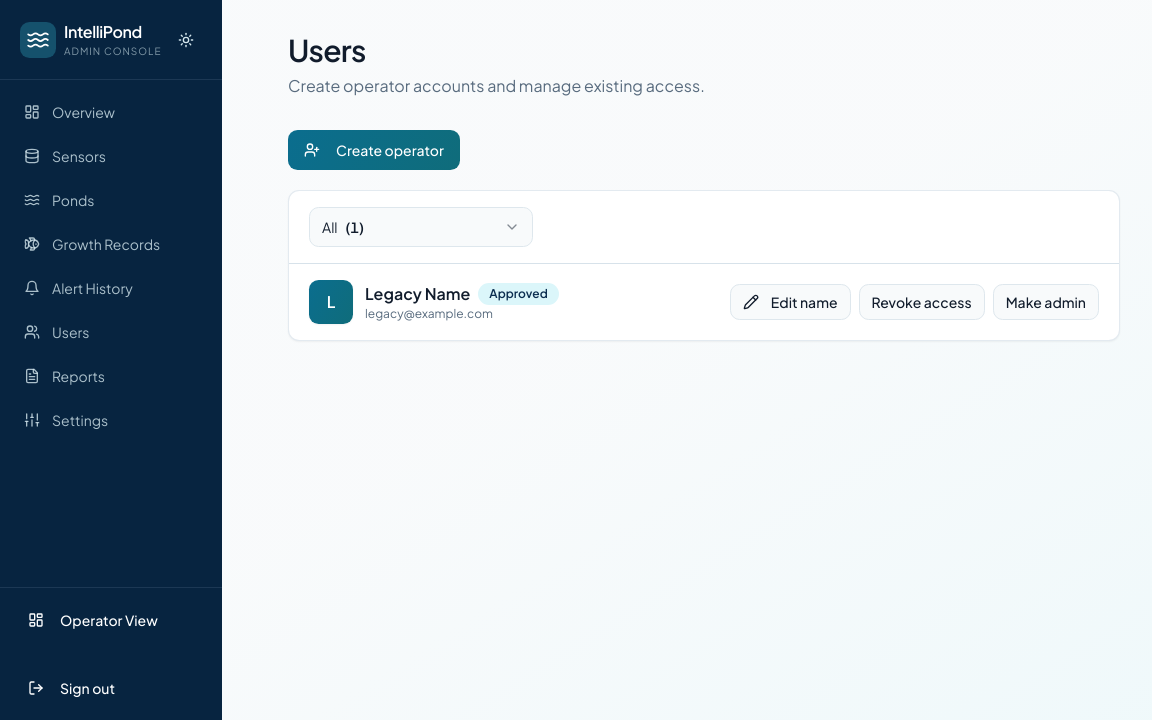
admin operator creation › lets an admin review an existing name without changing the account
expect the text "Legacy Name" is shown: met, box [365,282,470,306]
Click the button "Edit name" at (790, 302), box [730,284,850,320]
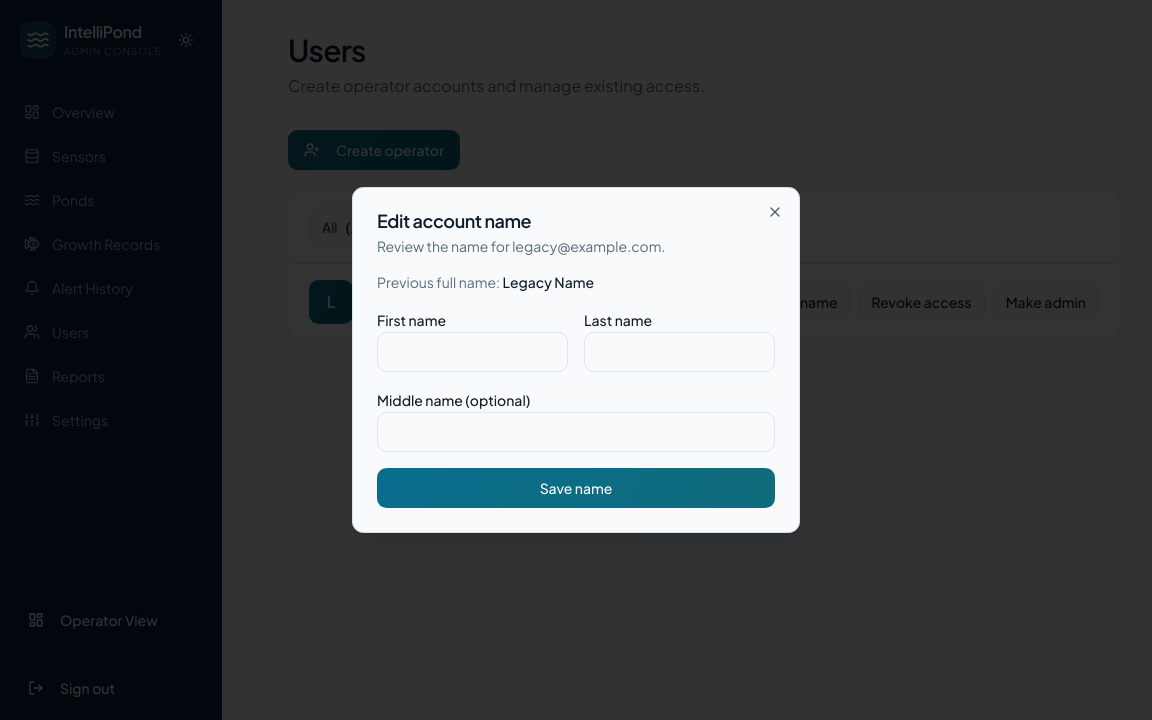
expect the text "Previous full name: Legacy Name" is shown: met, box [377,273,594,291]
Type "Ana" into the field labelled "First name" at (472, 352), box [377,332,568,372]
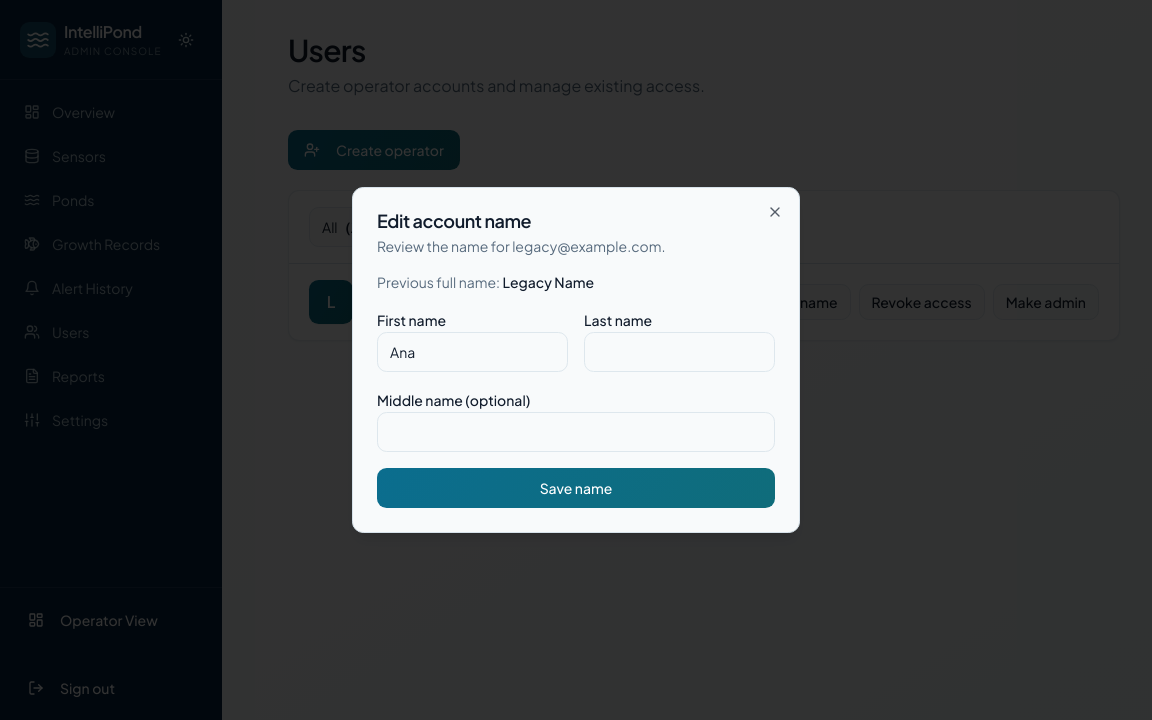
Type "Maria" into the field labelled "Middle name (optional)" at (576, 432), box [377,412,775,452]
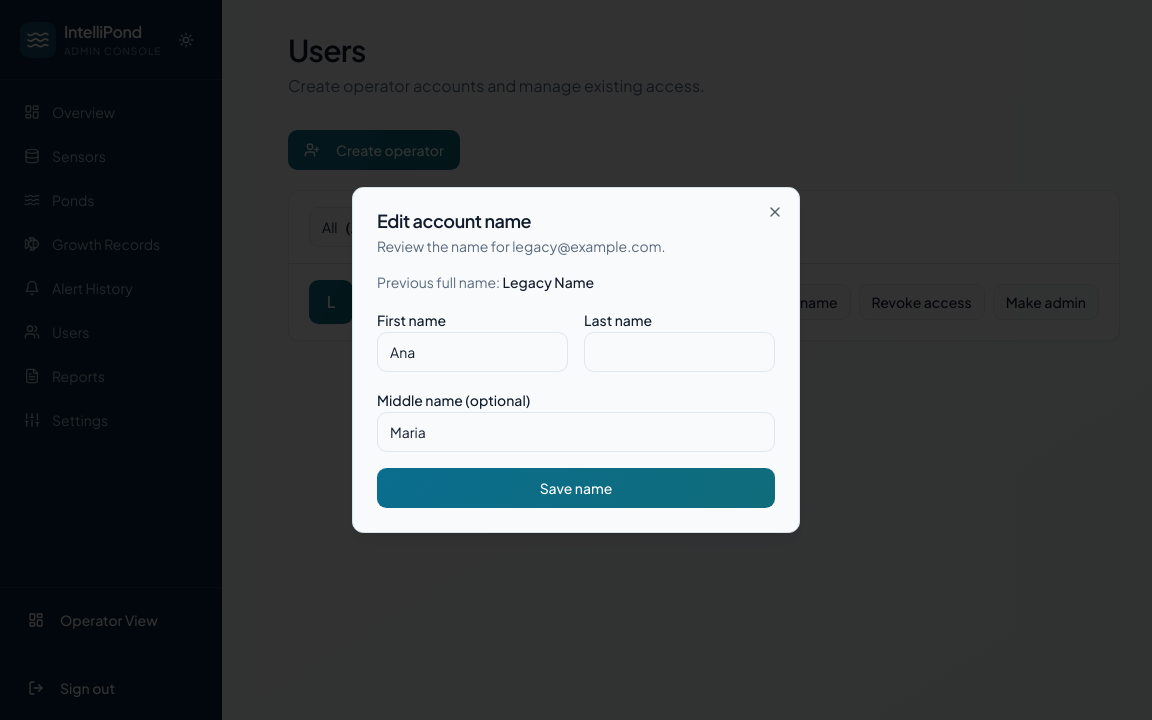
Type "Santos" into the field labelled "Last name" at (680, 352), box [584,332,775,372]
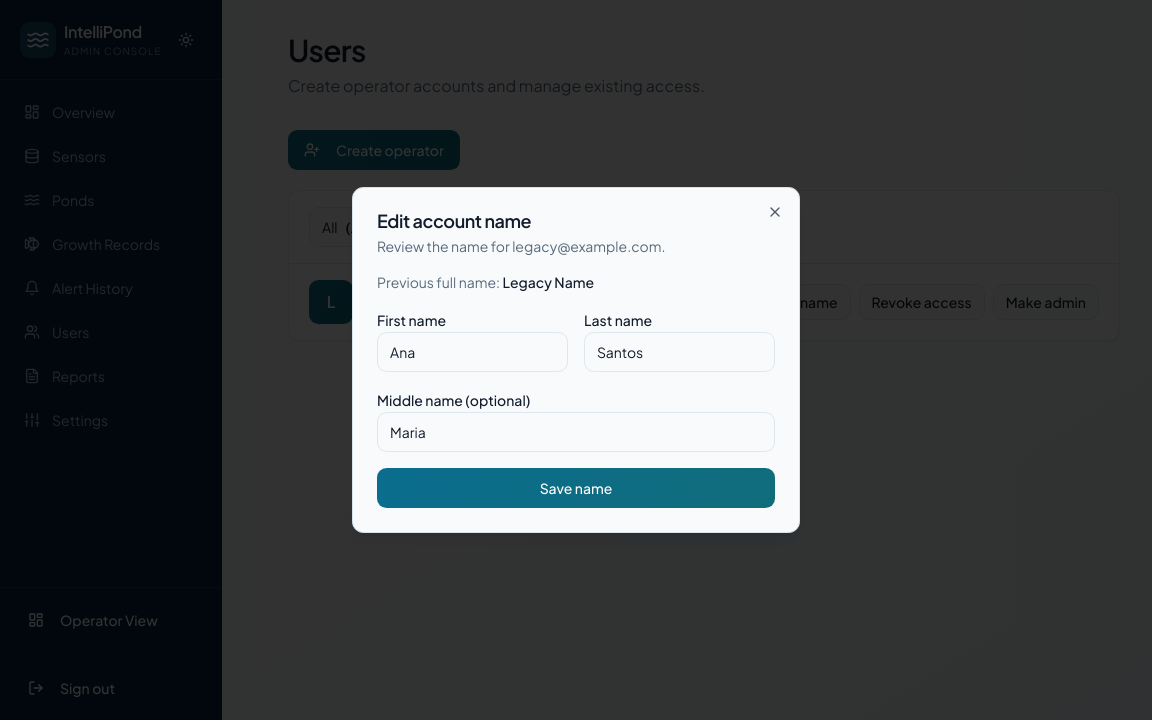
Click the button "Save name" at (576, 488), box [377,468,775,508]
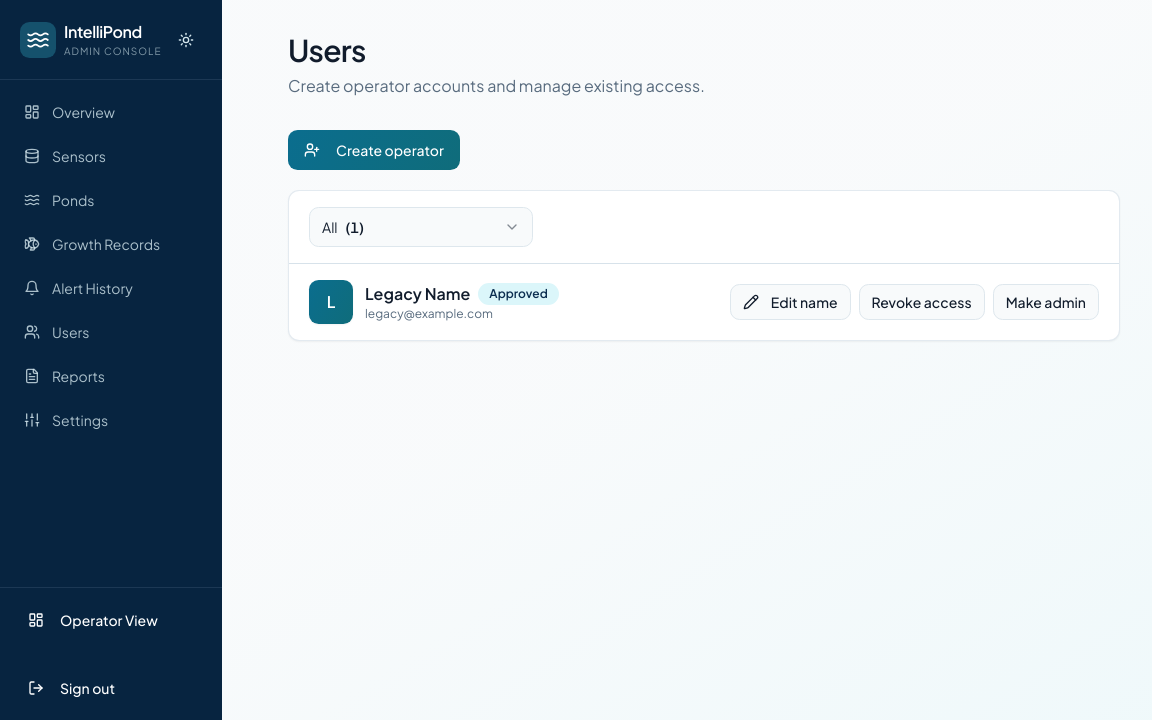
expect the dialog is gone: met
